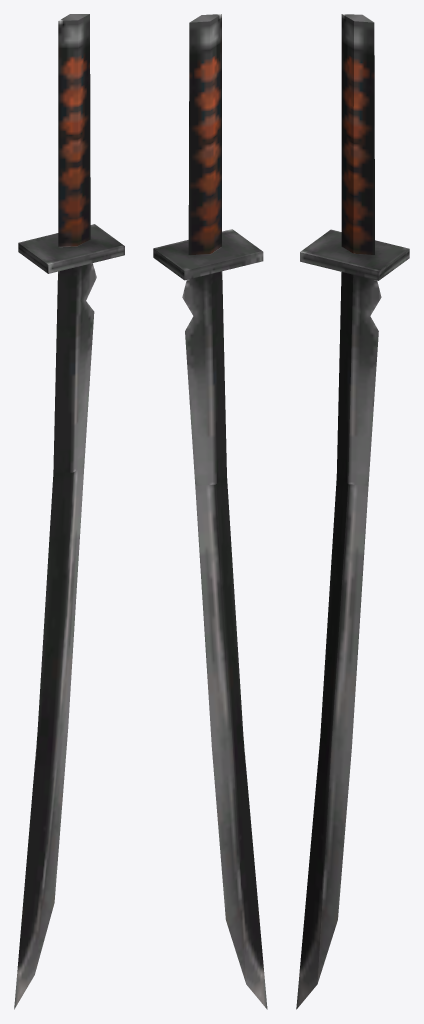
Rendered from Girdan_Sword.fbx.
3 views of the same model, side by side, from view 1: azimuth 30°, elevation 25°; view 2: azimuth 210°, elevation 25°; view 3: azimuth 330°, elevation 25° (orthographic). The views are drawn at different scales.
Visible parts, largest first — view 1: Object04; view 2: Object04; view 3: Object04.
Part boxes in pixels (bbox=[...]): Object04: bbox=[14, 14, 124, 1009]; Object04: bbox=[153, 14, 267, 1009]; Object04: bbox=[296, 14, 409, 1009].
Bounding box in the file's own units: 3.36 × 32.91 × 1.84.
